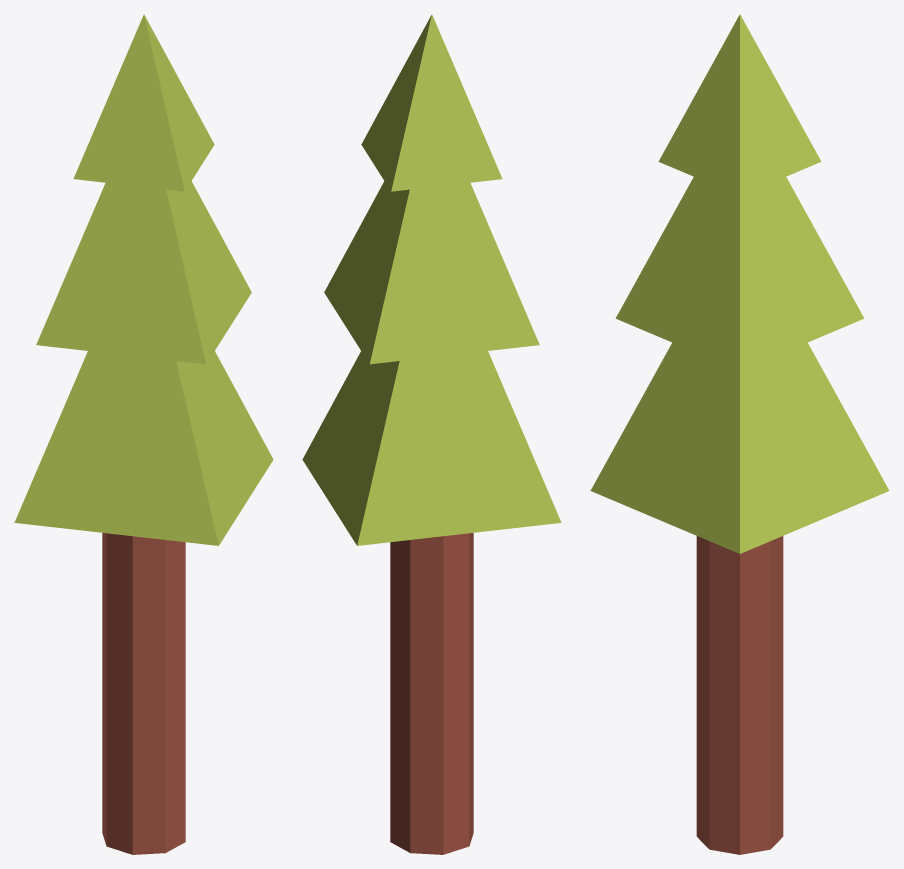
Rendered from Tree.fbx.
3 views of the same model, side by side, from view 1: azimuth 30°, elevation 25°; view 2: azimuth 150°, elevation 25°; view 3: azimuth 270°, elevation 25° (orthographic).
Parts seen in each view (by area): view 1: Cylinder, Cylinder.001; view 2: Cylinder, Cylinder.001; view 3: Cylinder, Cylinder.001.
Part boxes in pixels (x1,y1,x2,y2): Cylinder: (14,14,273,811); Cylinder.001: (102,790,185,854); Cylinder: (302,14,561,811); Cylinder.001: (390,790,473,854); Cylinder: (590,14,889,811); Cylinder.001: (696,793,783,854).
Bounding box in the file's own units: 303 × 920 × 303.
Materials: 1 (1 with a texture image).
